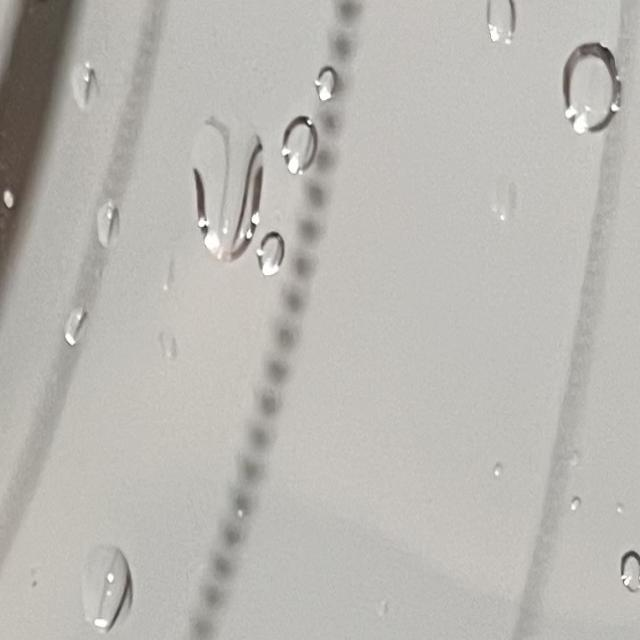raindrop: (191, 119, 257, 253), (558, 37, 630, 134), (76, 550, 142, 627), (276, 117, 322, 179), (65, 62, 109, 108), (314, 58, 347, 109), (479, 0, 514, 47), (616, 538, 640, 604), (92, 202, 124, 251), (258, 232, 286, 286), (66, 301, 90, 349), (569, 486, 593, 517)
